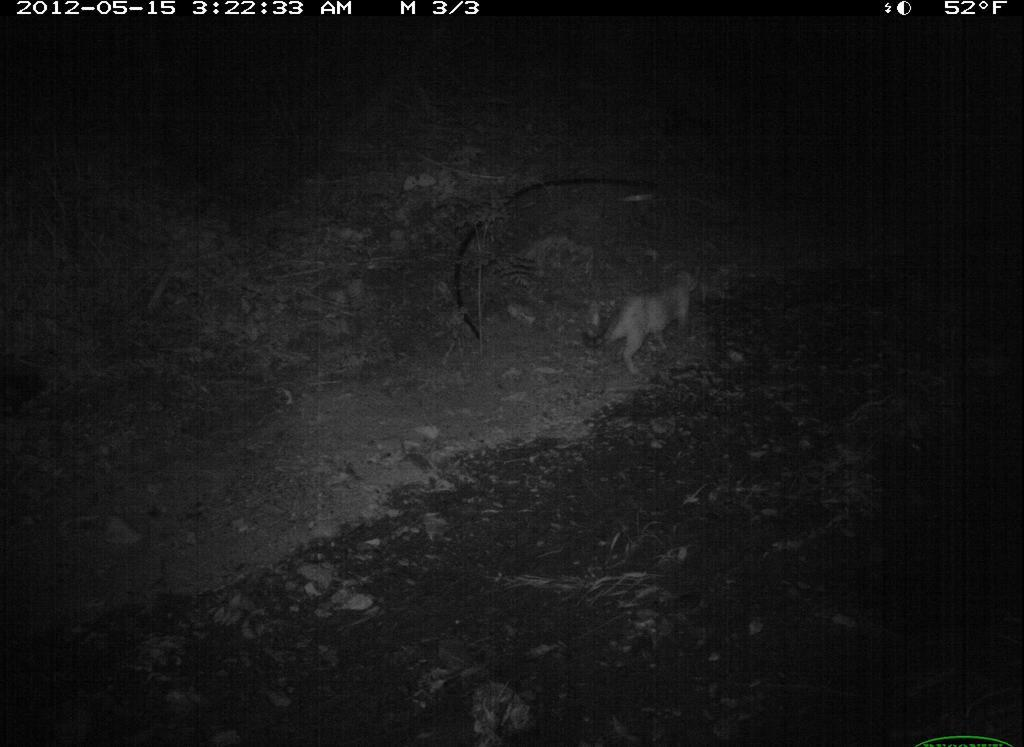cat: (583, 264, 708, 376)
